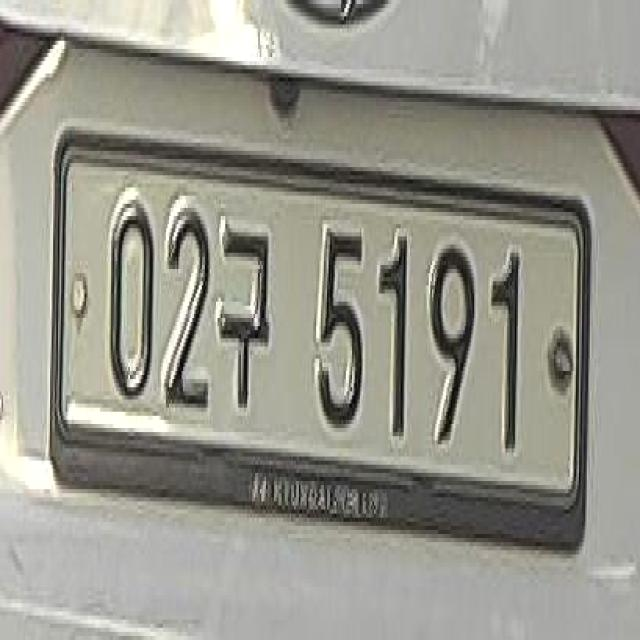illegal_plate: (55, 135, 600, 557)
